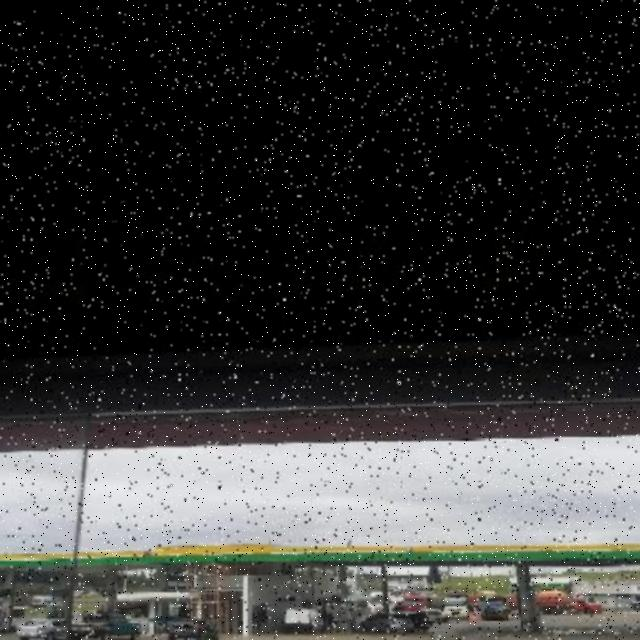emergency_exit: (1, 400, 639, 566)
